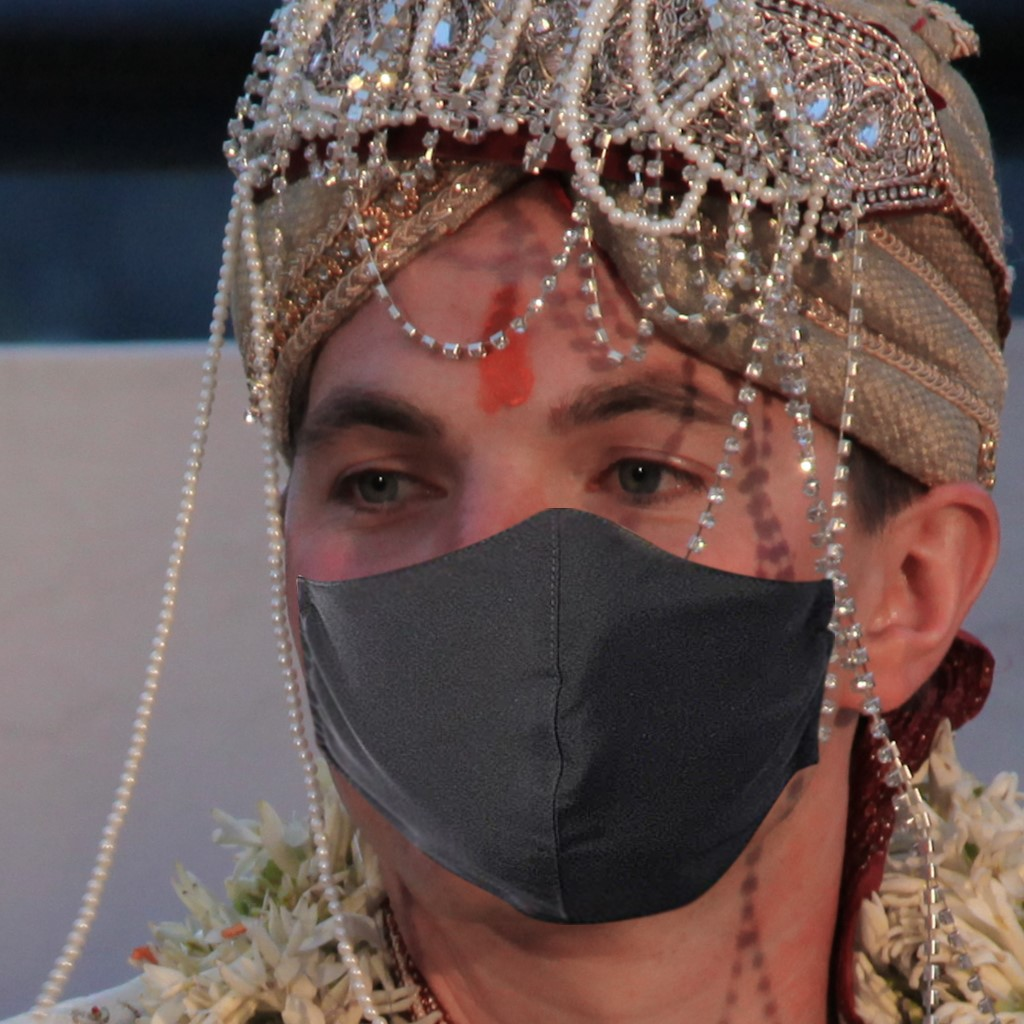con_mascara: (244, 182, 864, 945)
